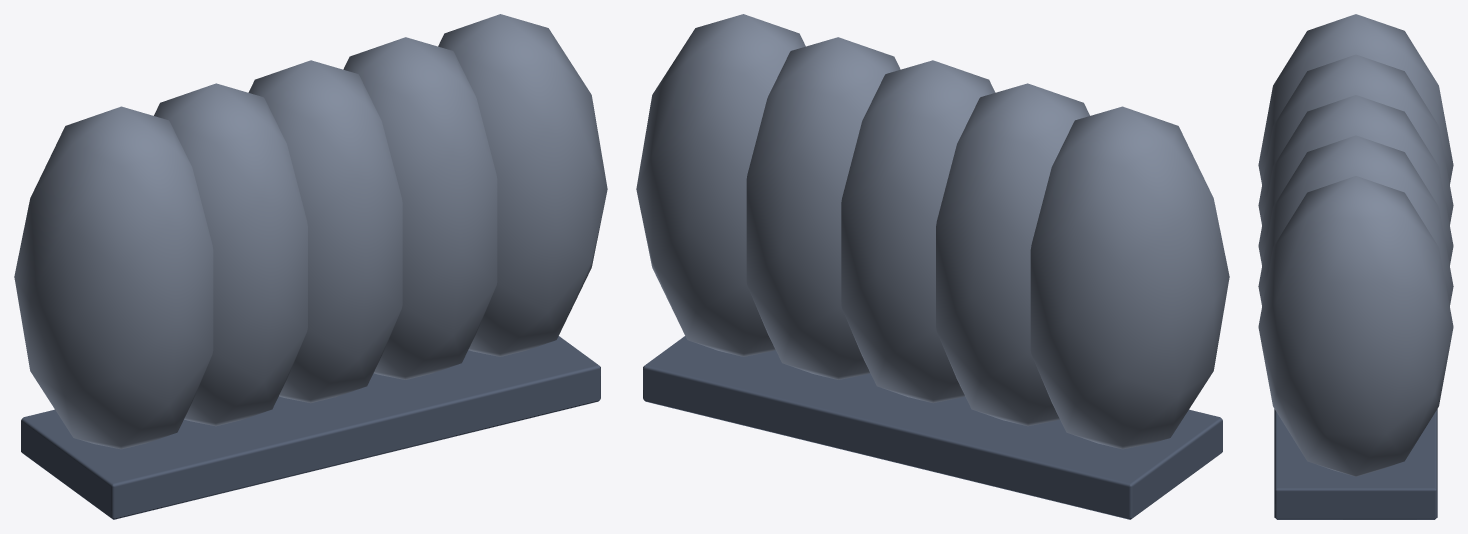
File: garden-hedge-lite.glb
3 views of the same model, side by side, from view 1: azimuth 30°, elevation 25°; view 2: azimuth 150°, elevation 25°; view 3: azimuth 270°, elevation 25° (orthographic). The views are drawn at different scales.
Parts seen in each view (by area): view 1: garden-hedge; view 2: garden-hedge; view 3: garden-hedge.
Part boxes in pixels (x1=…): garden-hedge: x1=14, y1=14, x2=607, y2=519; garden-hedge: x1=636, y1=14, x2=1229, y2=519; garden-hedge: x1=1258, y1=14, x2=1453, y2=519.
Size of the model in its own units: 1.6 by 1 by 0.55.
